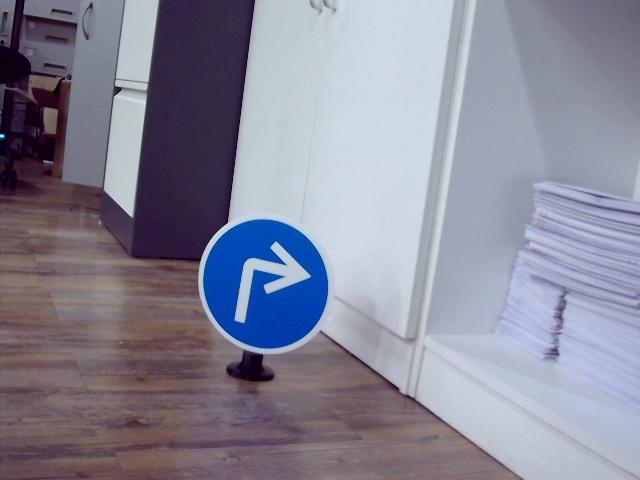turn_right: (228, 236, 311, 327)
